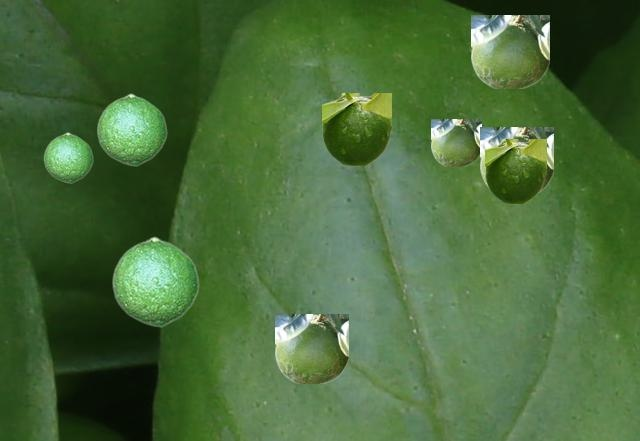dalandan: (111, 236, 198, 326), (471, 15, 548, 87), (96, 93, 166, 165), (275, 314, 347, 382), (322, 93, 390, 165), (480, 127, 552, 192), (485, 139, 545, 203), (43, 132, 92, 182), (431, 119, 480, 165)
